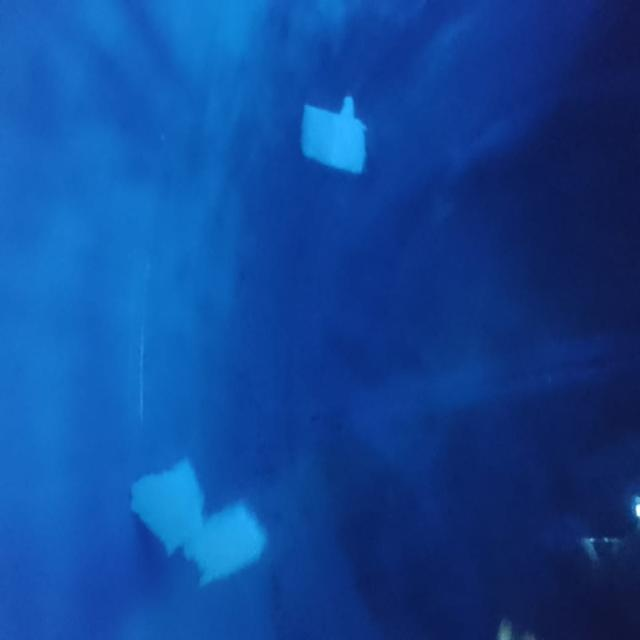litter: (118, 448, 272, 584), (298, 83, 377, 199)
